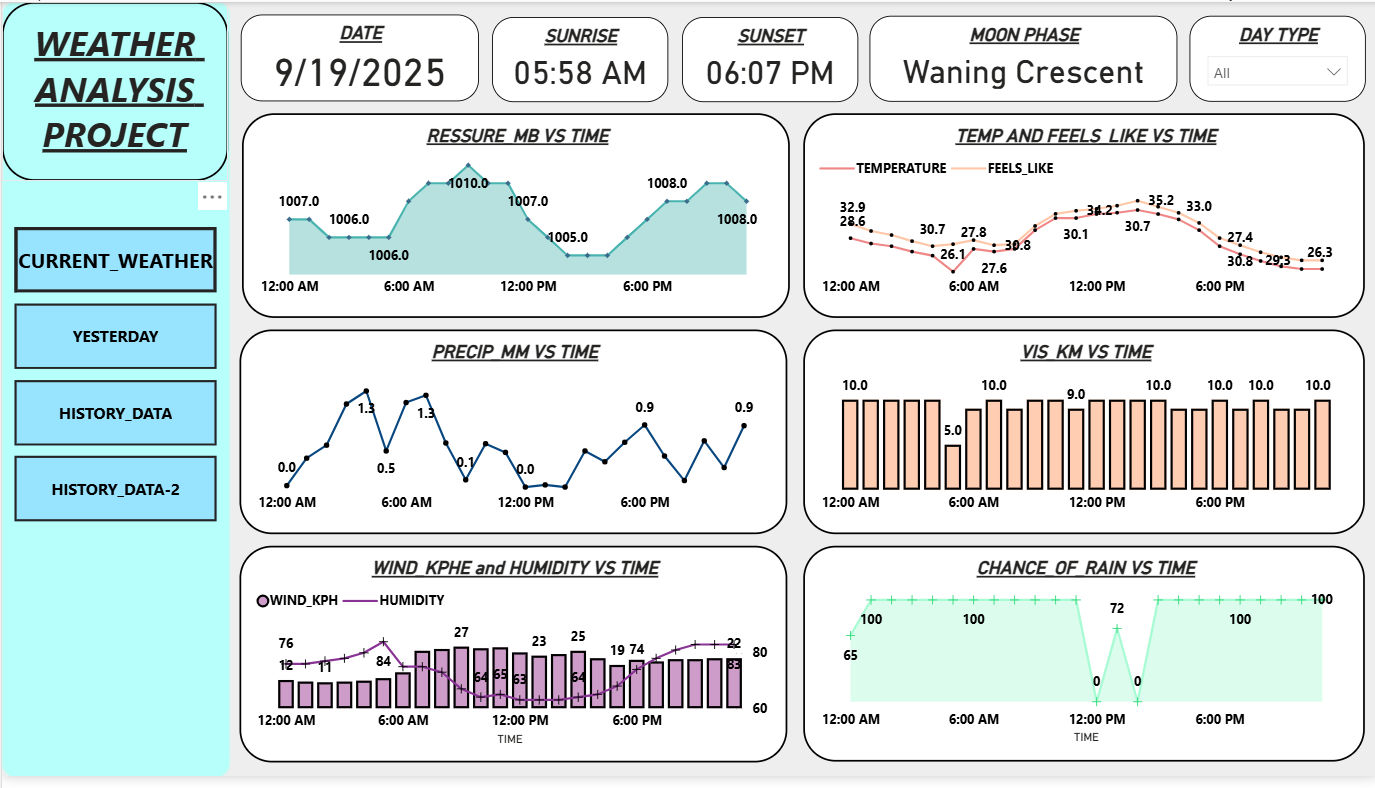

What the dashboard file says about the page in this screenshot:
{"tool":"powerbi","page":{"name":"CURRENT_WEATHER","canvas":[1280,720],"ordinal":0},"visuals":[{"type":"pageNavigator","box":[11.6,209.3,188.4,274.4],"z":0},{"type":"card","title":"SUNRISE","fields":{"Values":["Min(ASTRO.SUNRISE)"]},"box":[456.3,13.9,163.6,79],"z":1000},{"type":"card","title":"SUNSET","fields":{"Values":["Min(ASTRO.SUNSET)"]},"box":[632.4,13.9,163.6,79],"z":2000},{"type":"card","title":"MOON PHASE","fields":{"Values":["Min(ASTRO.MOON_PHASE)"]},"box":[806.8,12.8,286.5,79.8],"z":3000},{"type":"slicer","title":"DAY TYPE","fields":{"Values":["FORCAST.DAY_TYPE"]},"box":[1104.7,12.8,163.9,79.8],"z":4000},{"type":"card","title":"DATE","fields":{"Values":["Min(FORCAST.DATE)"]},"box":[221.9,11.1,221.9,80.4],"z":5000},{"type":"areaChart","title":"RESSURE_MB VS TIME","fields":{"Category":["FORCAST.TIME"],"Y":["Avg(FORCAST.PRESSURE_MB_FORCASTE)"]},"box":[222.7,103.9,509.3,190.1],"z":6000},{"type":"lineChart","title":"PRECIP_MM VS TIME","fields":{"Category":["FORCAST.TIME"],"Y":["Avg(FORCAST.PRECIP_MM_FORCASTE)"]},"box":[221.3,304.4,509.3,190.1],"z":7000},{"type":"lineStackedColumnComboChart","title":"WIND_KPHE and HUMIDITY VS TIME","fields":{"Category":["FORCAST.TIME"],"Y":["Avg(FORCAST.WIND_KPH_FORCASTE)"],"Y2":["Avg(FORCAST.HUMIDITY_FORCASTE)"]},"box":[221.3,506.4,509.3,201.9],"z":8000},{"type":"lineChart","title":"TEMP AND FEELS_LIKE VS TIME","fields":{"Category":["FORCAST.TIME"],"Y":["Avg(FORCAST.TEMP_C_FORCASTE)"],"Y2":["Avg(FORCAST.FEELSLIKE_C_FORCASTE)"]},"box":[745.4,103.9,522.7,190.1],"z":9000},{"type":"columnChart","title":"VIS_KM VS TIME","fields":{"Category":["FORCAST.TIME"],"Y":["Avg(FORCAST.VIS_KM_FORCASTE)"]},"box":[745.4,304.4,522.7,190.1],"z":10000},{"type":"areaChart","title":"CHANCE_OF_RAIN VS TIME","fields":{"Category":["FORCAST.TIME"],"Y":["Avg(FORCAST.CHANCE_OF_RAIN_FORCASTE)"]},"box":[745.4,506.4,522.7,200.5],"z":11000},{"type":"textbox","box":[0,0,210.5,166.3],"z":12000}]}

Visuals, with their boxes in screenshot pixels (x1, y1, x2, y2), scaled from the page's 1280x720 canvas onto the 1375x788 screenshot:
pageNavigator: bbox=[12, 229, 215, 529]
"SUNRISE" card: bbox=[490, 15, 666, 102]
"SUNSET" card: bbox=[679, 15, 855, 102]
"MOON PHASE" card: bbox=[867, 14, 1174, 101]
"DAY TYPE" slicer: bbox=[1187, 14, 1363, 101]
"DATE" card: bbox=[238, 12, 477, 100]
"RESSURE_MB VS TIME" areaChart: bbox=[239, 114, 786, 322]
"PRECIP_MM VS TIME" lineChart: bbox=[238, 333, 785, 541]
"WIND_KPHE and HUMIDITY VS TIME" lineStackedColumnComboChart: bbox=[238, 554, 785, 775]
"TEMP AND FEELS_LIKE VS TIME" lineChart: bbox=[801, 114, 1362, 322]
"VIS_KM VS TIME" columnChart: bbox=[801, 333, 1362, 541]
"CHANCE_OF_RAIN VS TIME" areaChart: bbox=[801, 554, 1362, 774]
textbox: bbox=[0, 0, 226, 182]
